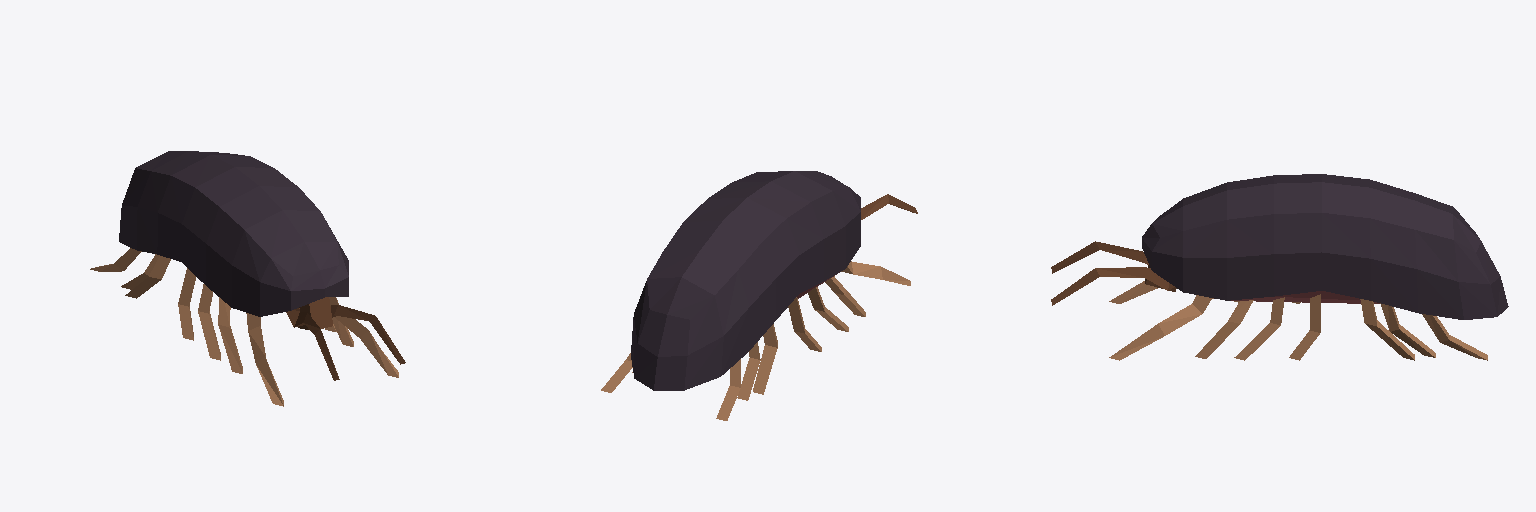
3 views of the same model, side by side, from view 1: azimuth 30°, elevation 25°; view 2: azimuth 150°, elevation 25°; view 3: azimuth 270°, elevation 25° (orthographic).
Parts seen in each view (by area): view 1: Geo_PillBug; view 2: Geo_PillBug; view 3: Geo_PillBug.
Part boxes in pixels (x1,y1,x2,y2): Geo_PillBug: (90,151,405,406); Geo_PillBug: (601,171,917,420); Geo_PillBug: (1051,174,1508,360).
Bounding box in the file's own units: 30.58 × 34.05 × 95.62.
Materials: 1 (1 with a texture image).